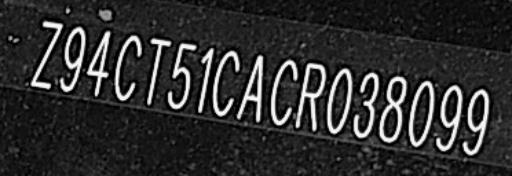letter: (430, 82, 468, 153), (294, 59, 330, 129), (266, 57, 302, 125), (377, 73, 411, 144), (138, 37, 172, 106), (404, 77, 438, 146), (30, 21, 64, 88), (350, 68, 382, 139), (322, 65, 356, 131), (166, 41, 198, 110), (462, 85, 494, 154), (212, 47, 242, 117), (111, 31, 141, 100), (236, 53, 266, 121), (57, 26, 87, 89), (86, 30, 114, 95), (192, 44, 218, 113)
